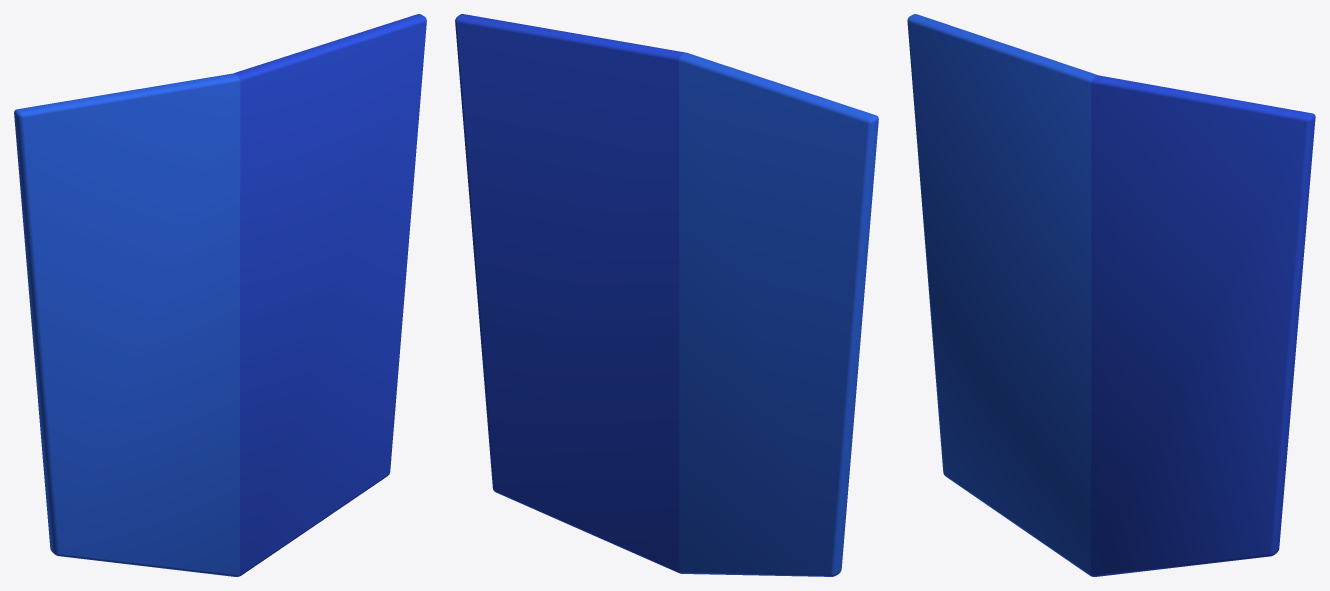
File: css.glb
3 views of the same model, side by side, from view 1: azimuth 30°, elevation 25°; view 2: azimuth 150°, elevation 25°; view 3: azimuth 330°, elevation 25° (orthographic). The views are drawn at different scales.
Visible parts, largest first — view 1: ramka_1; view 2: ramka_1; view 3: ramka_1.
Part boxes in pixels (x1,y1,x2,y2): ramka_1: (14, 14, 426, 576); ramka_1: (455, 14, 878, 576); ramka_1: (907, 14, 1315, 576).
Bounding box in the file's own units: 1303105 × 1532362 × 139826.
